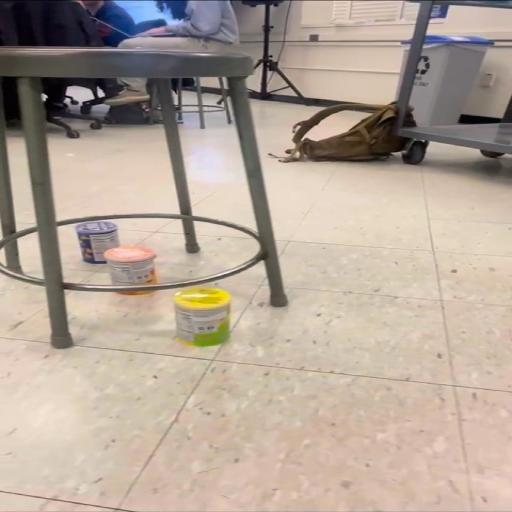pringle can: (174, 290, 234, 348), (104, 247, 158, 285), (78, 224, 118, 264)
